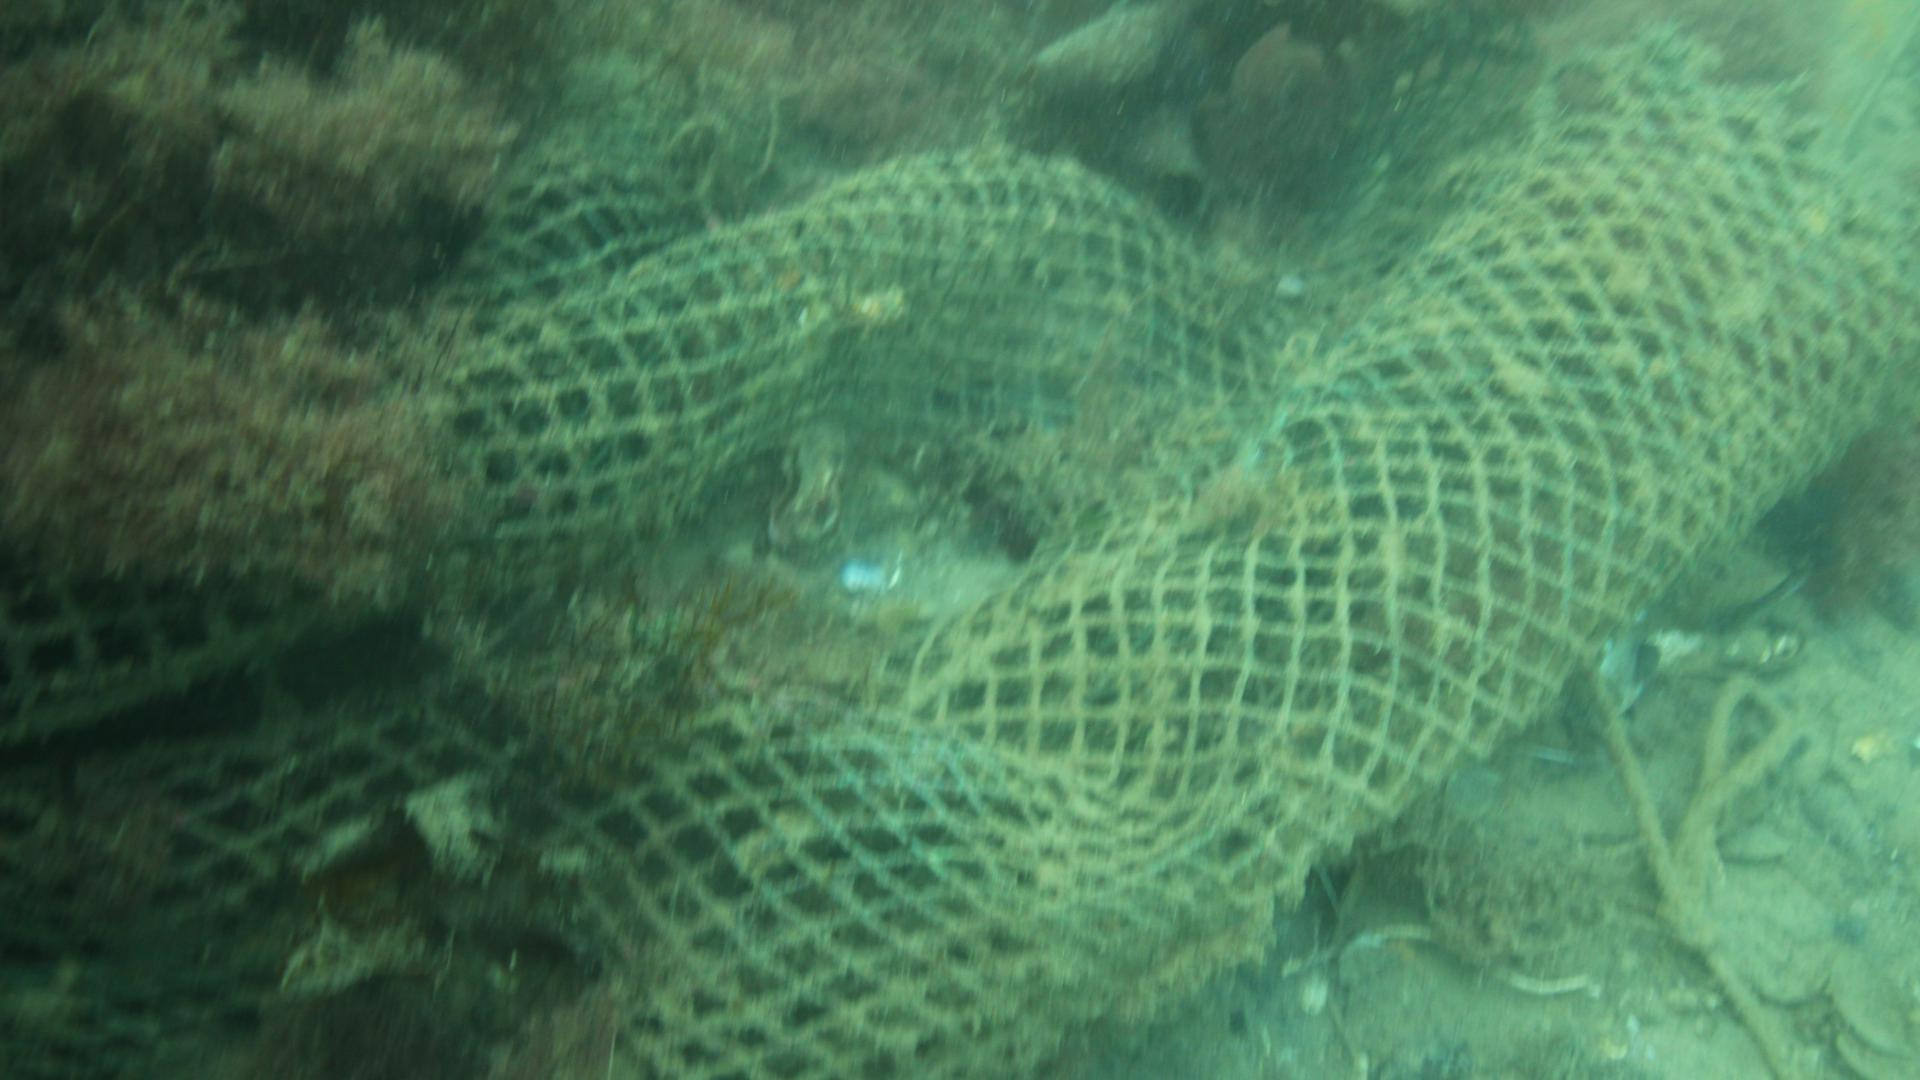bundle of ropes: (1560, 622, 1818, 1080)
fish net: (0, 53, 1920, 1080)
